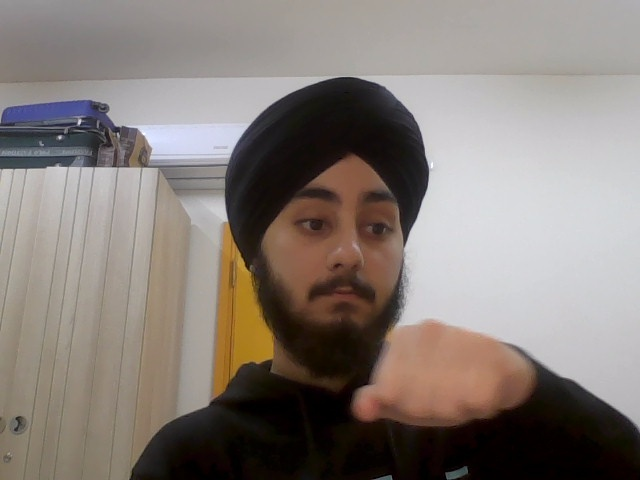Yes: (350, 315, 536, 436)
